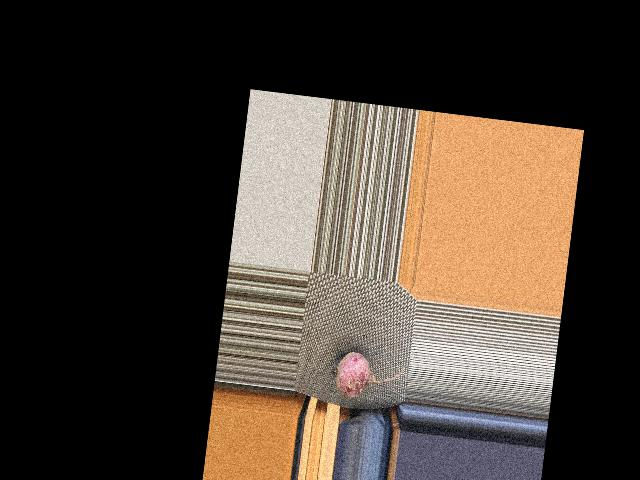beet: (328, 350, 404, 404)
